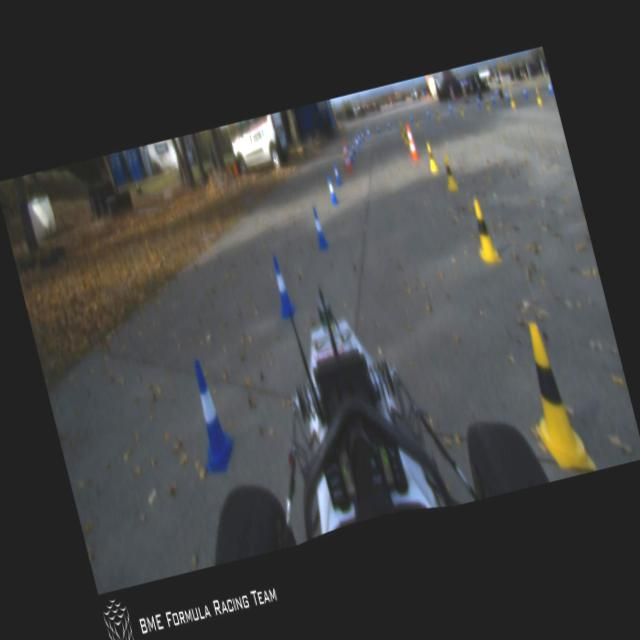blue_cone: (180, 356, 240, 478), (266, 254, 296, 318), (309, 207, 329, 250), (324, 175, 338, 204), (331, 160, 342, 186), (346, 145, 354, 163), (352, 134, 360, 150), (545, 78, 552, 94), (521, 84, 528, 100), (474, 95, 482, 108), (490, 93, 497, 106), (350, 140, 356, 154), (356, 131, 362, 144), (364, 125, 370, 138), (386, 118, 392, 131), (425, 108, 431, 120), (359, 128, 364, 142), (374, 122, 380, 133), (447, 102, 453, 113), (504, 88, 509, 100), (408, 113, 413, 123)
large_orange_cone: (402, 122, 420, 160), (338, 138, 352, 175)
yellow_cone: (510, 314, 596, 481), (466, 197, 500, 267), (439, 153, 458, 191), (422, 140, 438, 172), (532, 84, 544, 105), (401, 126, 409, 146), (507, 89, 515, 108), (397, 120, 405, 138), (412, 114, 420, 128), (433, 106, 440, 122), (483, 96, 490, 110), (458, 104, 464, 116)
